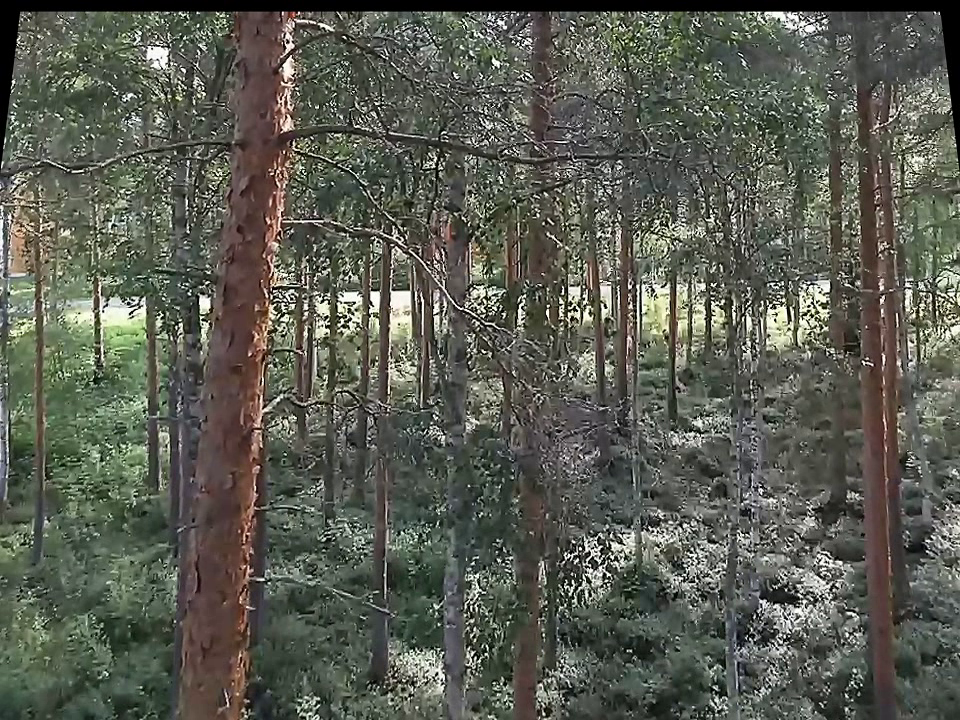branch: (294, 109, 601, 170), (290, 203, 456, 308), (6, 122, 231, 186), (249, 563, 401, 620), (272, 386, 397, 435)
trunk: (153, 16, 306, 713), (851, 85, 918, 707), (437, 128, 474, 712), (363, 222, 404, 689), (523, 124, 551, 711), (584, 228, 638, 418), (24, 218, 48, 572), (317, 254, 340, 545), (134, 283, 162, 499), (824, 109, 846, 381), (353, 234, 371, 515), (87, 211, 109, 395), (662, 265, 685, 428)
